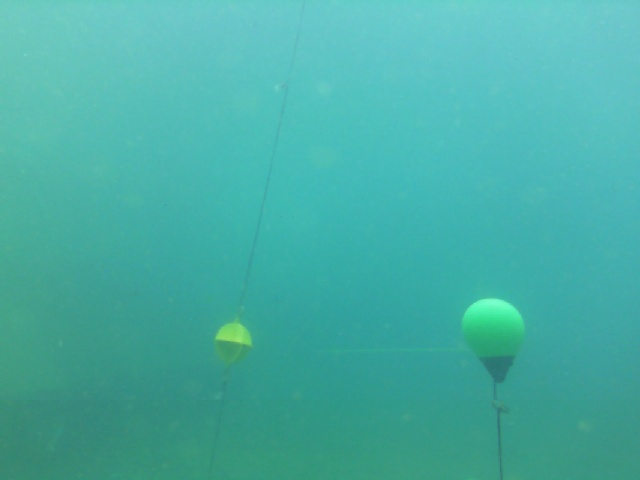buoy_green: (459, 293, 530, 386)
buoy_yellow: (212, 318, 253, 367)
